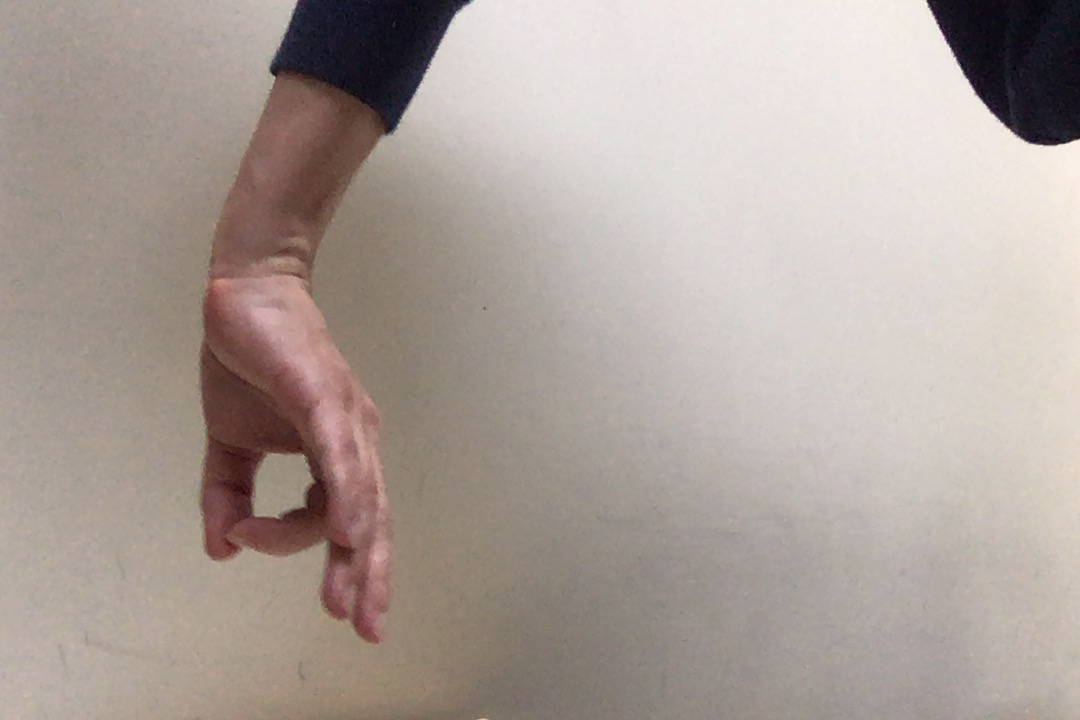oksign: (182, 268, 401, 655)
